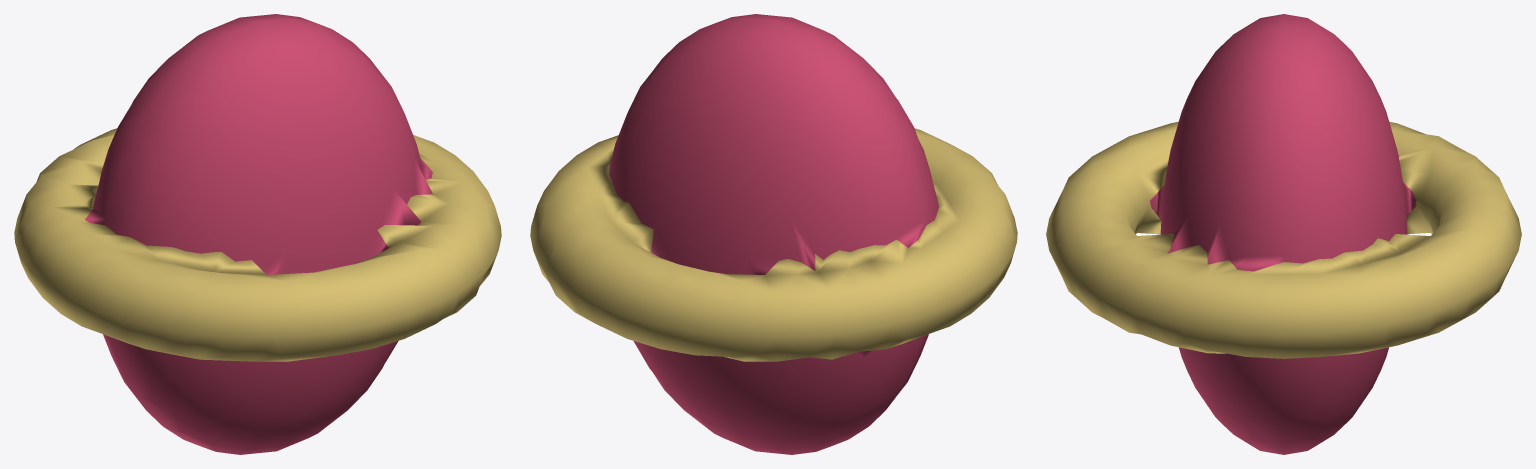
File: orn_c02.glb
3 renders of one model, left to right at view 1: azimuth 30°, elevation 25°; view 2: azimuth 150°, elevation 25°; view 3: azimuth 270°, elevation 25°, orthographic. The views are drawn at different scales.
Parts seen in each view (by area): view 1: orn_c02; view 2: orn_c02; view 3: orn_c02.
Boxes of the visible parts, x1=… form: orn_c02: x1=14, y1=14, x2=501, y2=454; orn_c02: x1=530, y1=14, x2=1017, y2=454; orn_c02: x1=1046, y1=14, x2=1521, y2=454.
Bounding box in the file's own units: 5.4 × 5.2 × 5.4.
